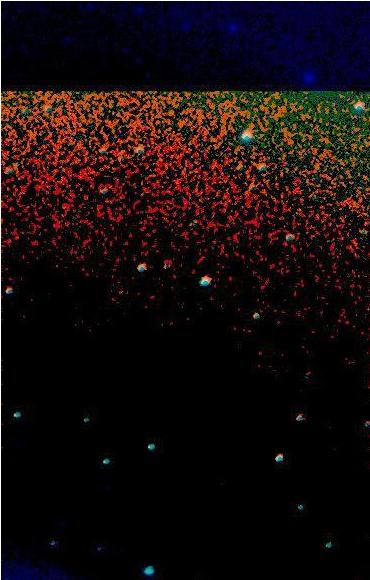star: (245, 336, 275, 366)
